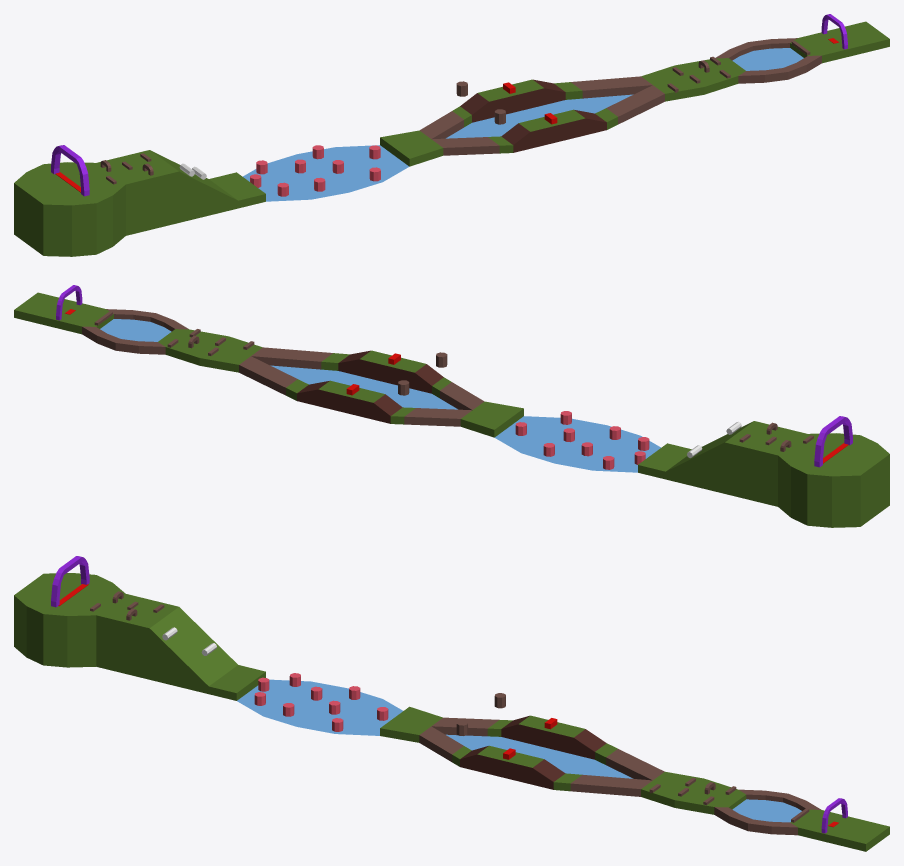
The model's file is Blockout_CrashCourse.fbx.
3 views of the same model, one above another, from view 1: azimuth 30°, elevation 25°; view 2: azimuth 150°, elevation 25°; view 3: azimuth 330°, elevation 25° (orthographic).
Parts seen in each view (by area): view 1: Cube, Cube.002; view 2: Cube, Cube.002; view 3: Cube, Cube.002.
Boxes of the visible parts, left/top/right/bottom form: Cube: left=14, top=21, right=889, bottom=256; Cube.002: left=51, top=145, right=89, bottom=196; Cube: left=14, top=292, right=889, bottom=527; Cube.002: left=814, top=416, right=852, bottom=467; Cube: left=14, top=573, right=889, bottom=851; Cube.002: left=51, top=556, right=89, bottom=607.
Bounding box in the file's own units: 16765 × 1594 × 1824.
